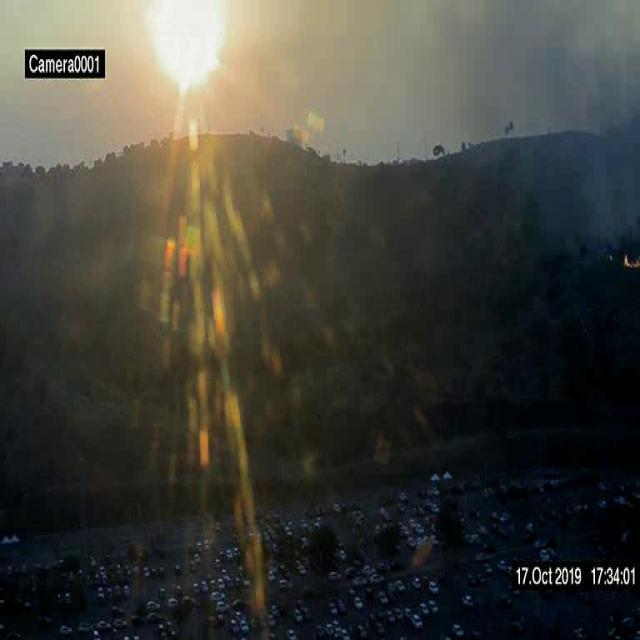Fire: (623, 252, 639, 272)
Smoke: (436, 16, 640, 277)
